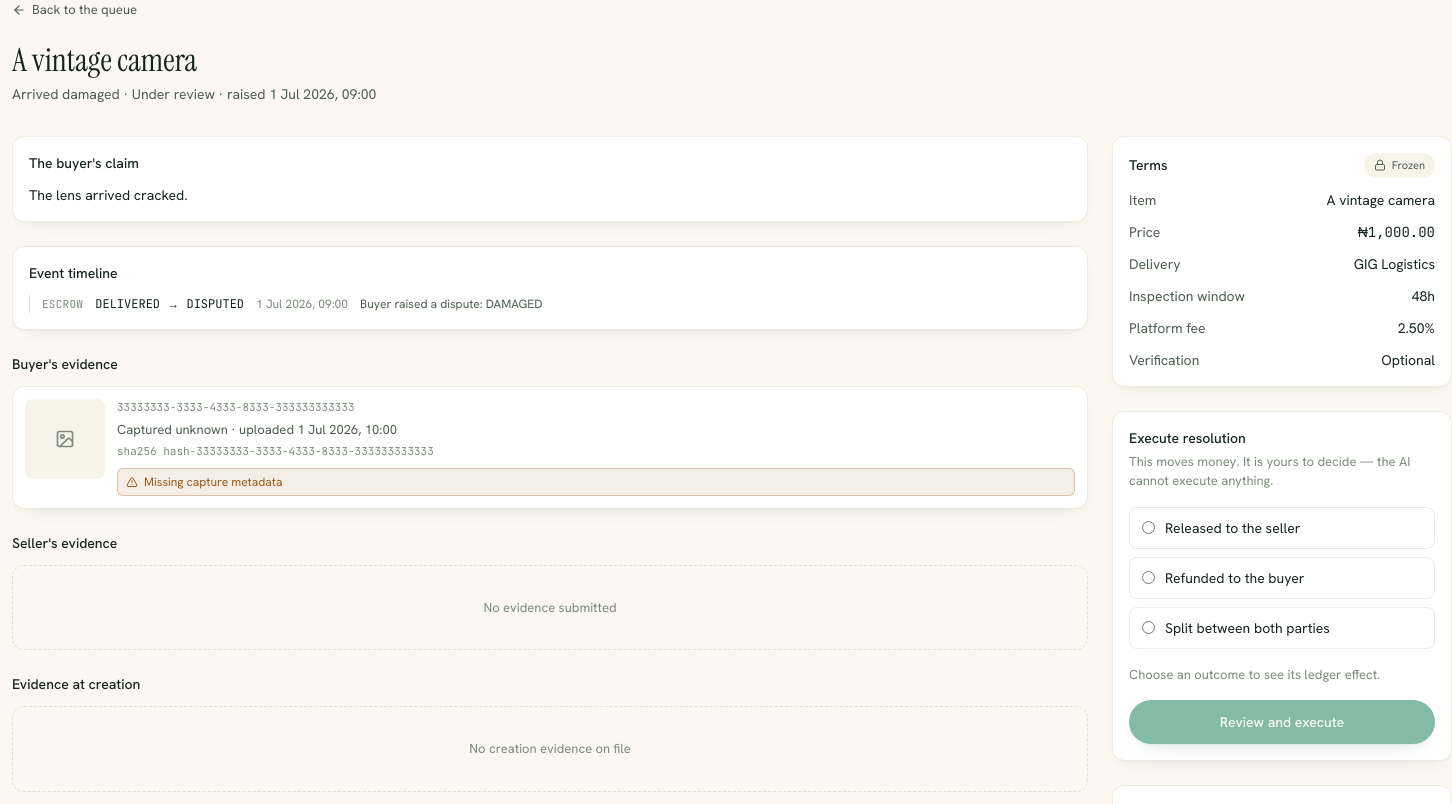
Test: Arbiter dispute detail › previews a split to the exact kobo before executing
The width and height of the screenshot is (1452, 804).
Click the radio button labelled "Split between both parties": {"x": 1148, "y": 628} [1142,621,1155,634]
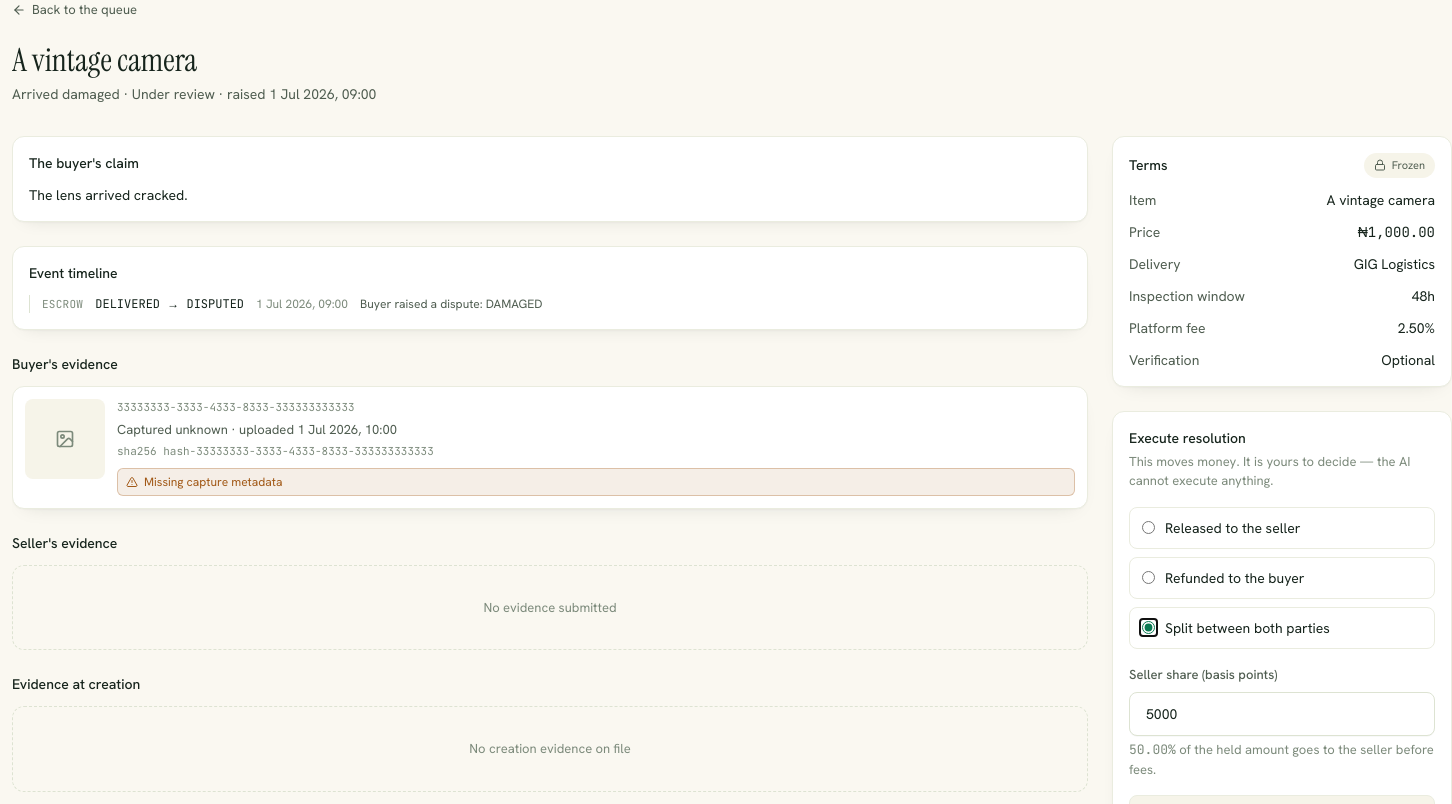
Replace the text in the field labelled "Seller share (basis points)" with "6000": {"x": 1282, "y": 714} [1129,692,1435,736]
(page scrolled)
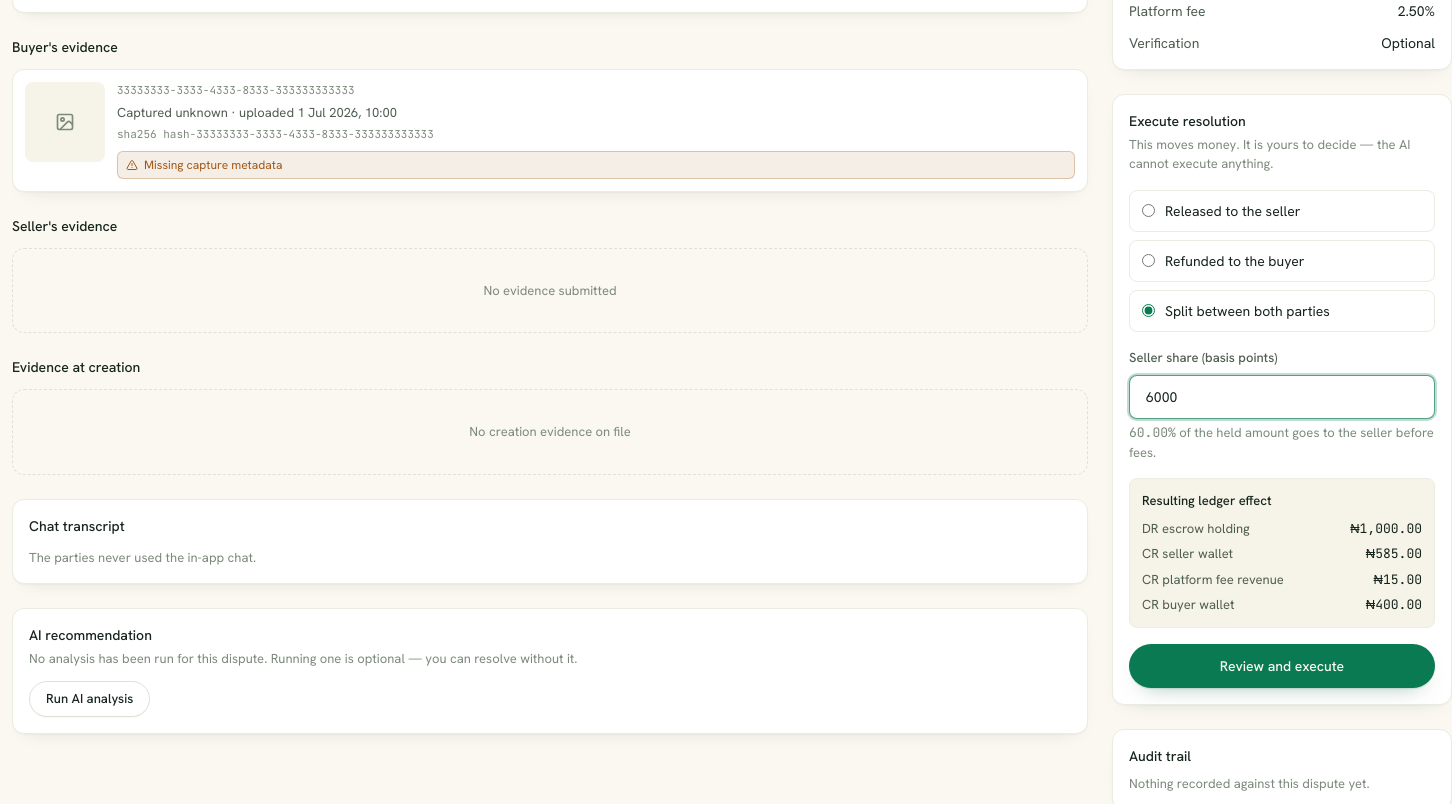
Result: the text "₦585.00" is shown at [1366,544,1422,564]
Result: the text "₦400.00" is shown at [1366,595,1422,614]
Result: the text "₦15.00" is shown at [1374,570,1422,589]
